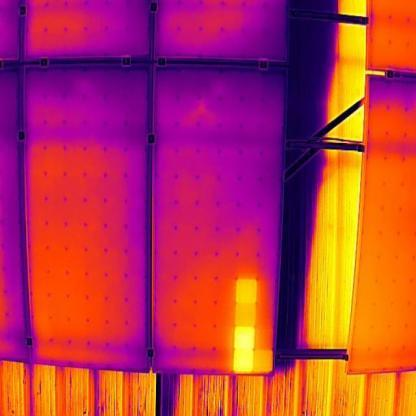anomaly: (229, 275, 276, 377)
